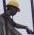boots: (0, 0, 6, 5)
gloves: (0, 0, 5, 4)
hard-hat: (6, 0, 20, 11)
